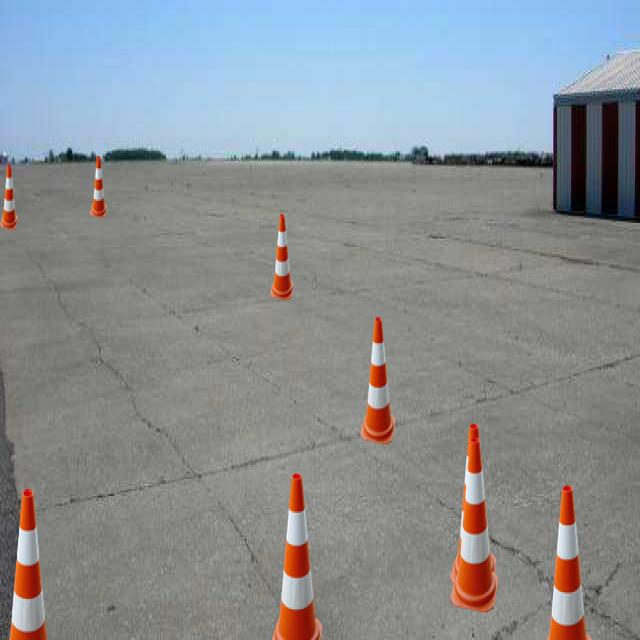large_orange_cone: (270, 473, 323, 640), (450, 438, 499, 612), (540, 485, 594, 640), (0, 489, 55, 640), (0, 490, 55, 640), (450, 424, 497, 592), (360, 318, 396, 444), (270, 214, 294, 300), (0, 165, 18, 230), (90, 156, 107, 218)
